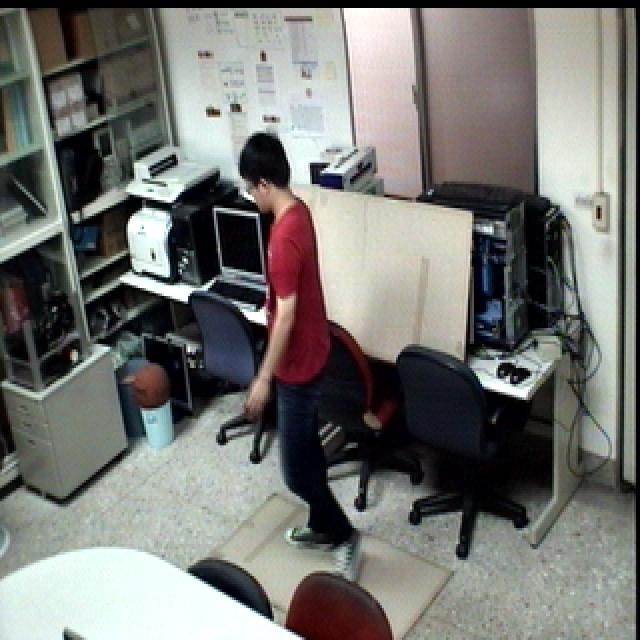stand: (226, 119, 370, 585)
